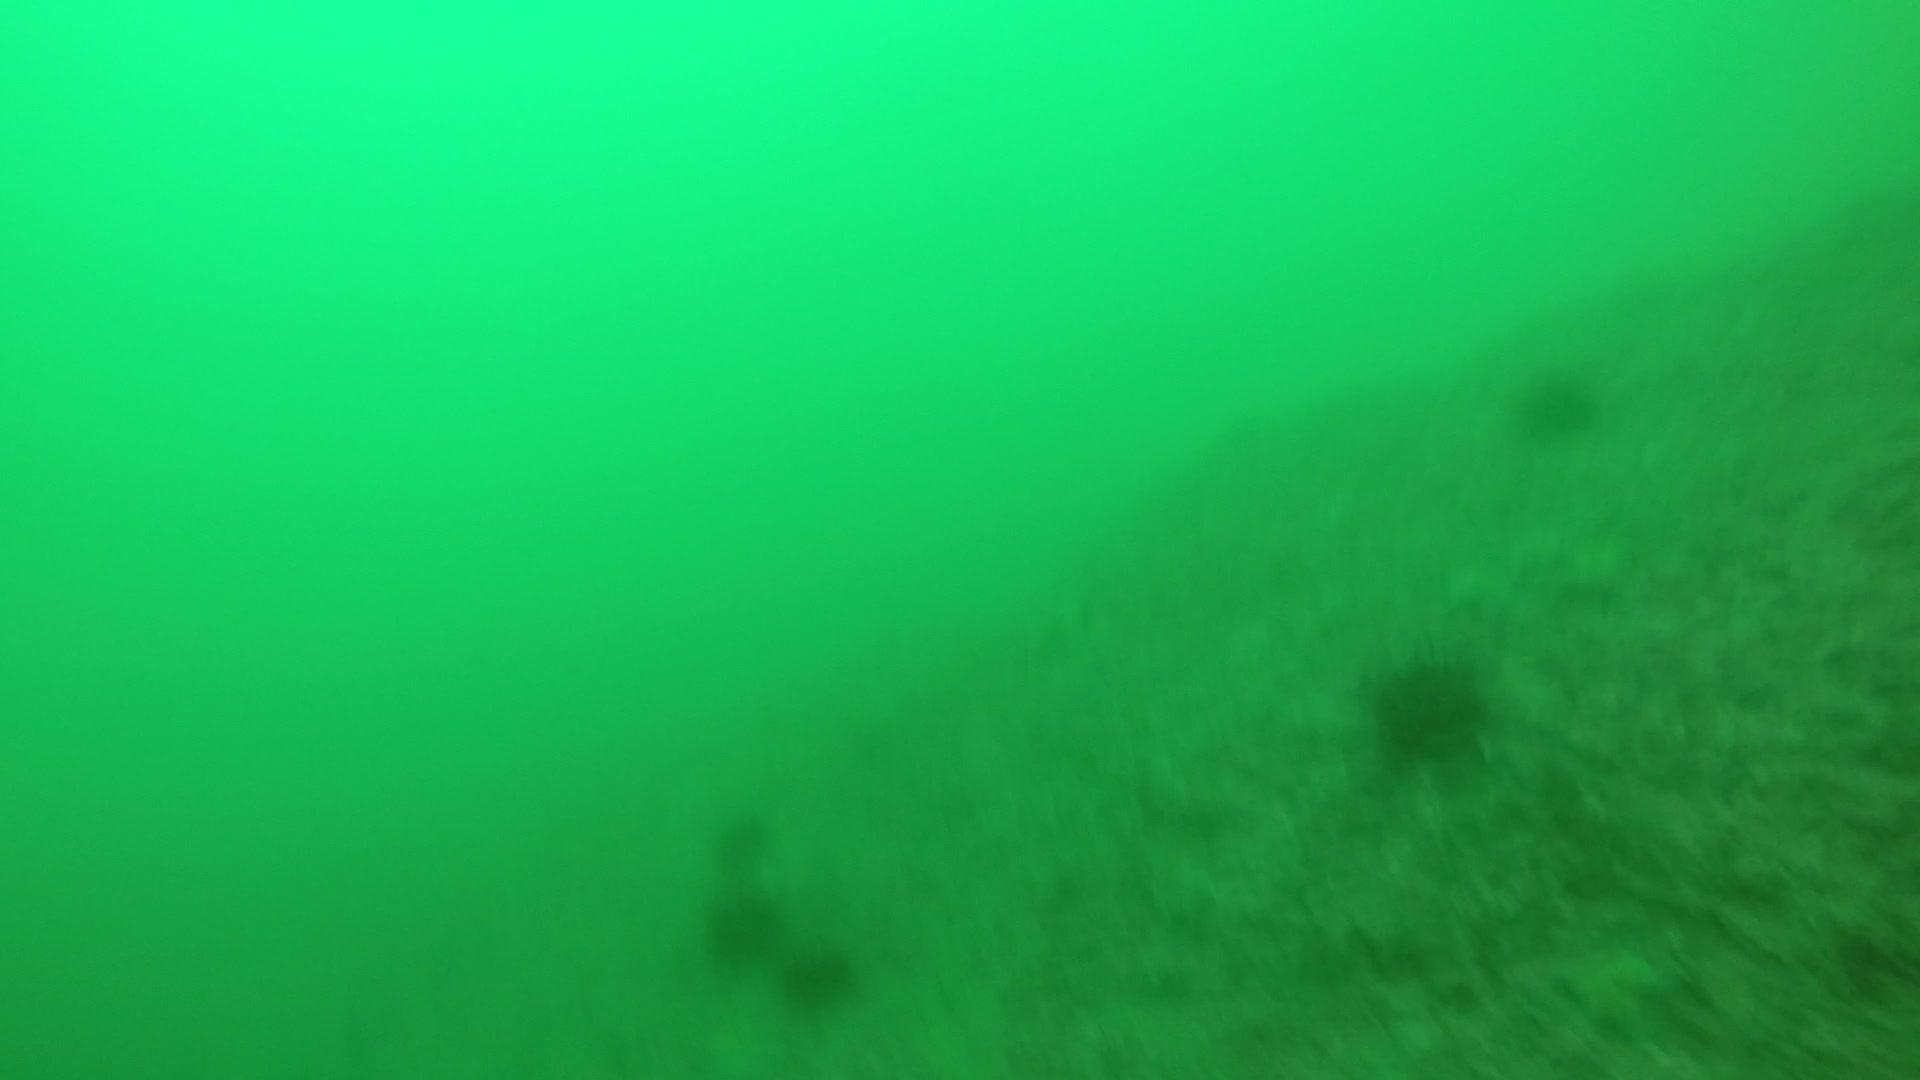echinus: (1361, 644, 1495, 767), (1509, 357, 1604, 443), (698, 881, 786, 965), (775, 938, 864, 1011), (704, 798, 779, 869)
starfish: (1551, 930, 1681, 1040)
